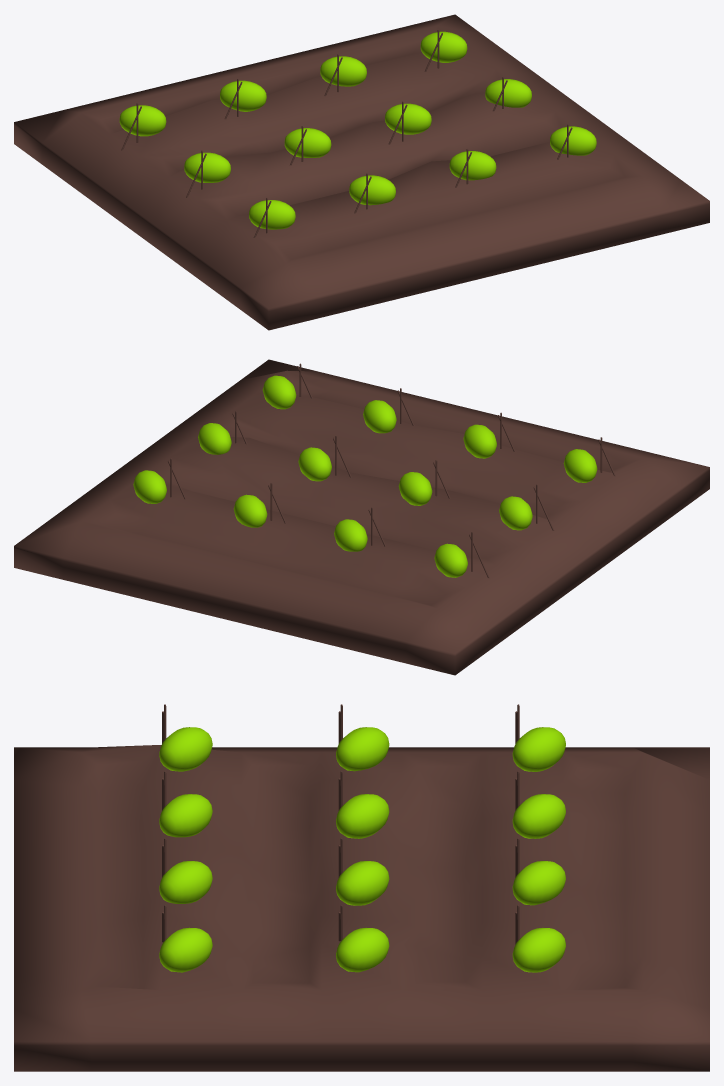
The model's file is TheWaterMelonFarm.fbx.
3 views of the same model, one above another, from view 1: azimuth 30°, elevation 25°; view 2: azimuth 150°, elevation 25°; view 3: azimuth 270°, elevation 25° (orthographic). The views are drawn at different scales.
Visible parts, largest first — view 1: Plane.007, Sphere.003; view 2: Plane.007, Sphere.003; view 3: Plane.007, Sphere.003.
Boxes of the visible parts, x1,y1,x2,y2 form: Plane.007: (14, 14, 709, 330); Sphere.003: (119, 29, 596, 237); Plane.007: (14, 359, 709, 675); Sphere.003: (133, 363, 615, 578); Plane.007: (14, 745, 709, 1071); Sphere.003: (159, 704, 565, 972).
Bounding box in the file's own units: 2457 × 421 × 2457.
